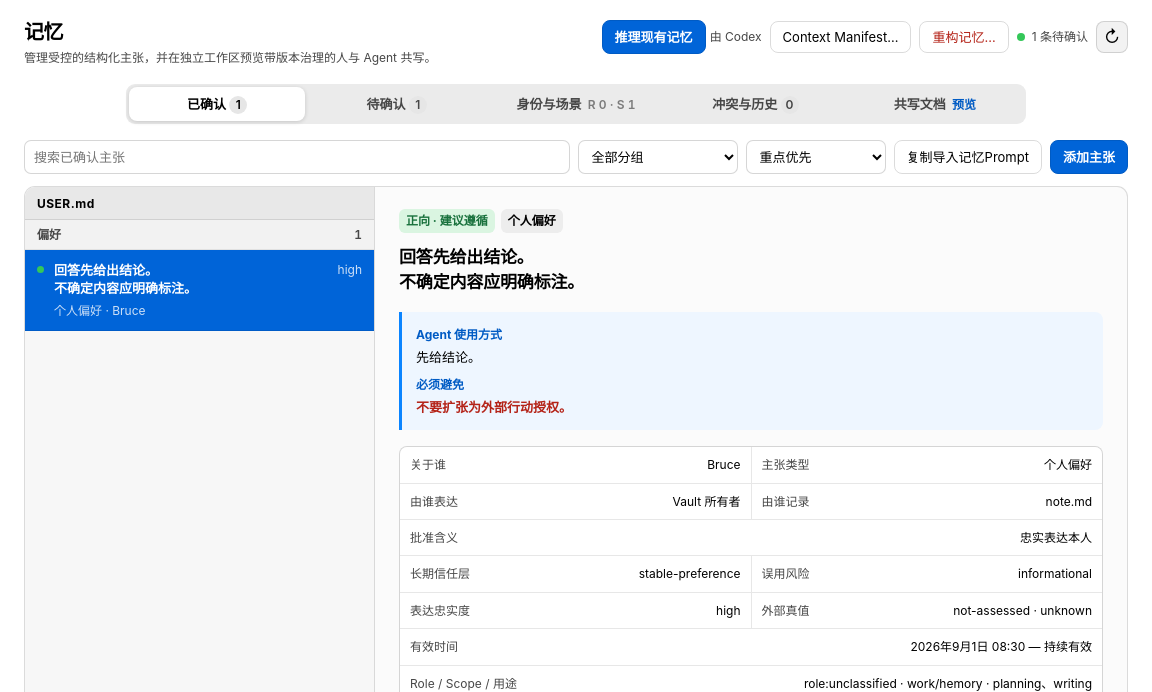
Test: Memory Protocol v2 app › treats a successful Agent process without this invocation checkpoint as inference failure
What coordinates should you click on to do the following:
click the button "推理现有记忆"
I would click on:
 (654, 37)
Its box is [602,20,706,54].
Wait 2000 ms
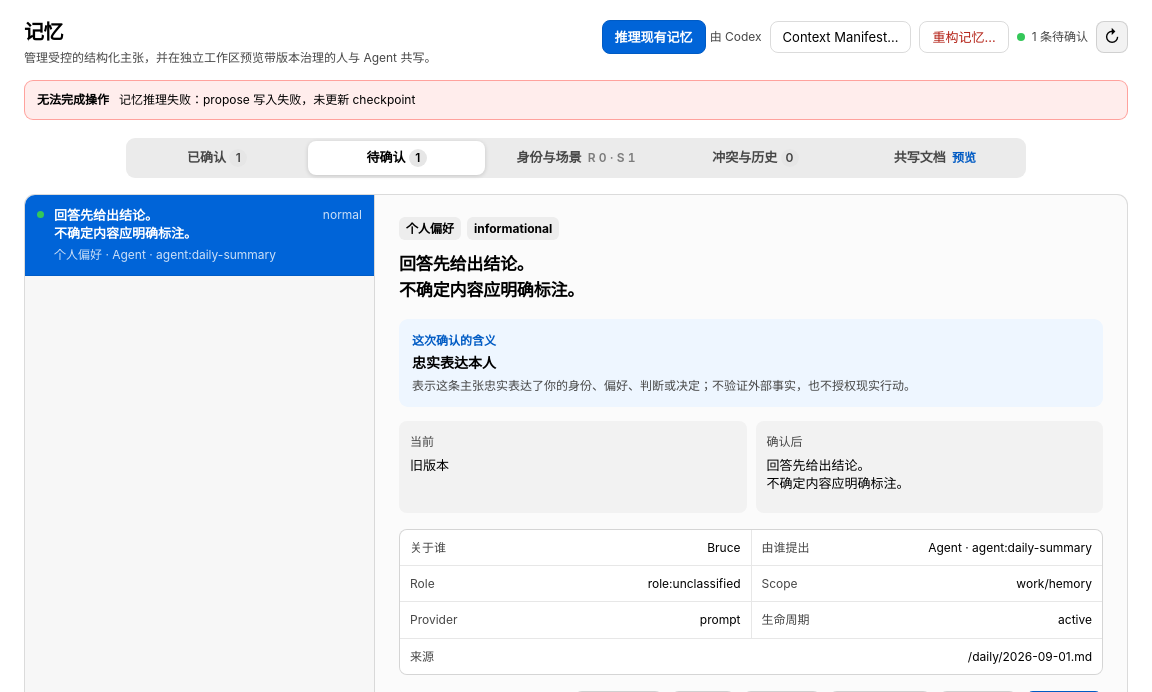
Result: the message "无法完成操作 记忆推理失败：propose 写入失败，未更新 checkpoint" is shown at [24,80,1128,120]
Result: the text "propose 写入失败" is shown at [119,92,415,107]
